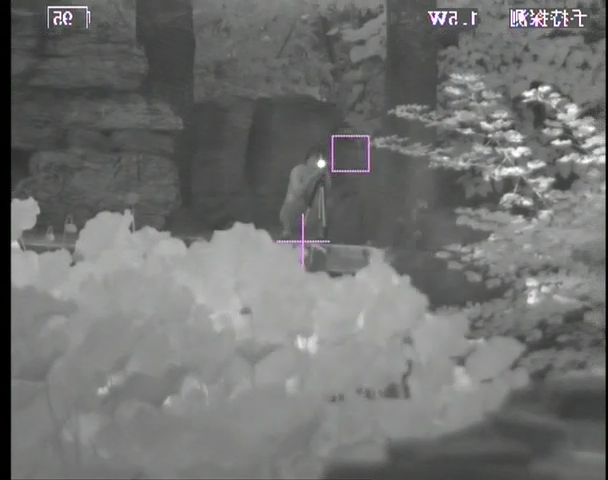my: (316, 158, 326, 169)
